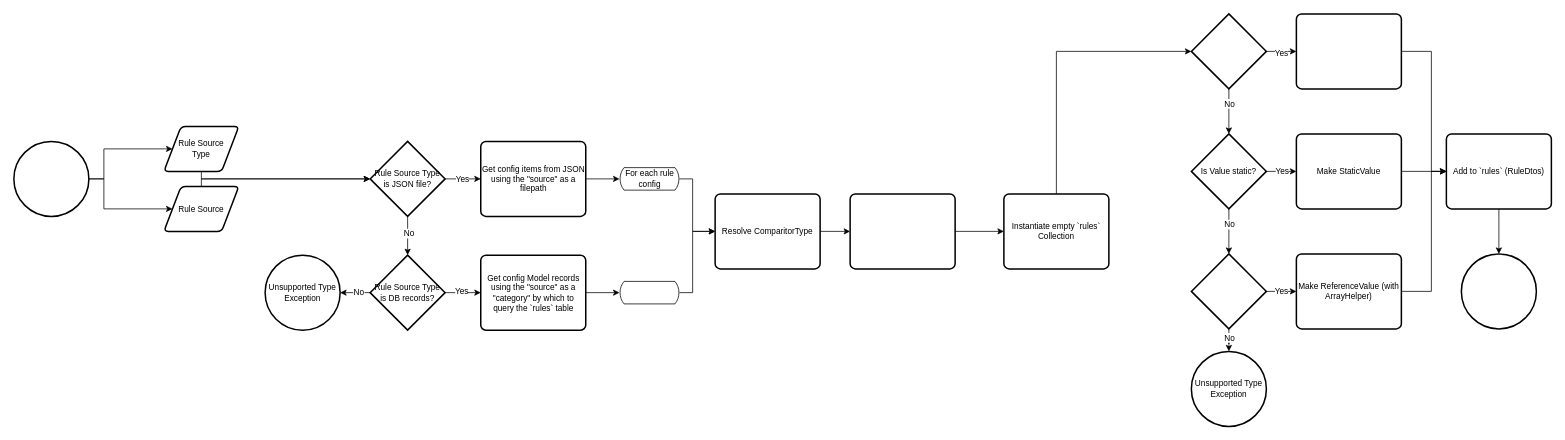
Image size: 1565x440. Some labels were removed from this diagram. Here are the shapes that lost their labels. From the top down, the centre of each, then its label:
At [1228,51]: "Is Value nested Rule result?".
At [1348,51]: "Make NestedValue (Value resolution later will be recursive)".
At [51,178]: "Instantiate RuleEvaluator with all RuleDto configs".
At [902,231]: "Resolve ValueTypes".
At [649,292]: "For each rule Model".
At [1228,291]: "Is Value reference?".
At [1498,291]: "Retain for subsequent use".
